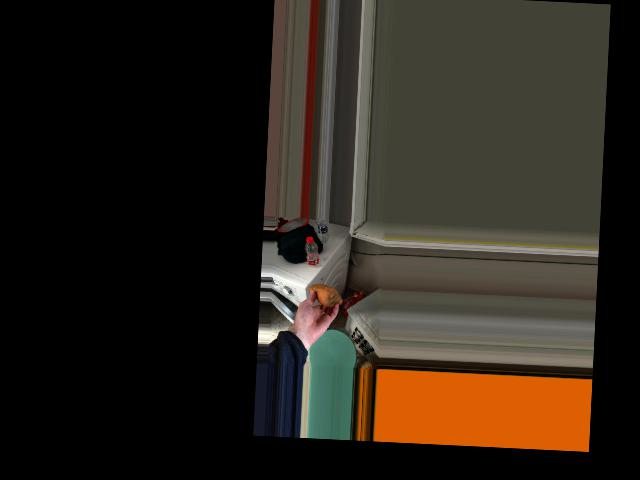sweet_potato: (309, 283, 339, 310)
